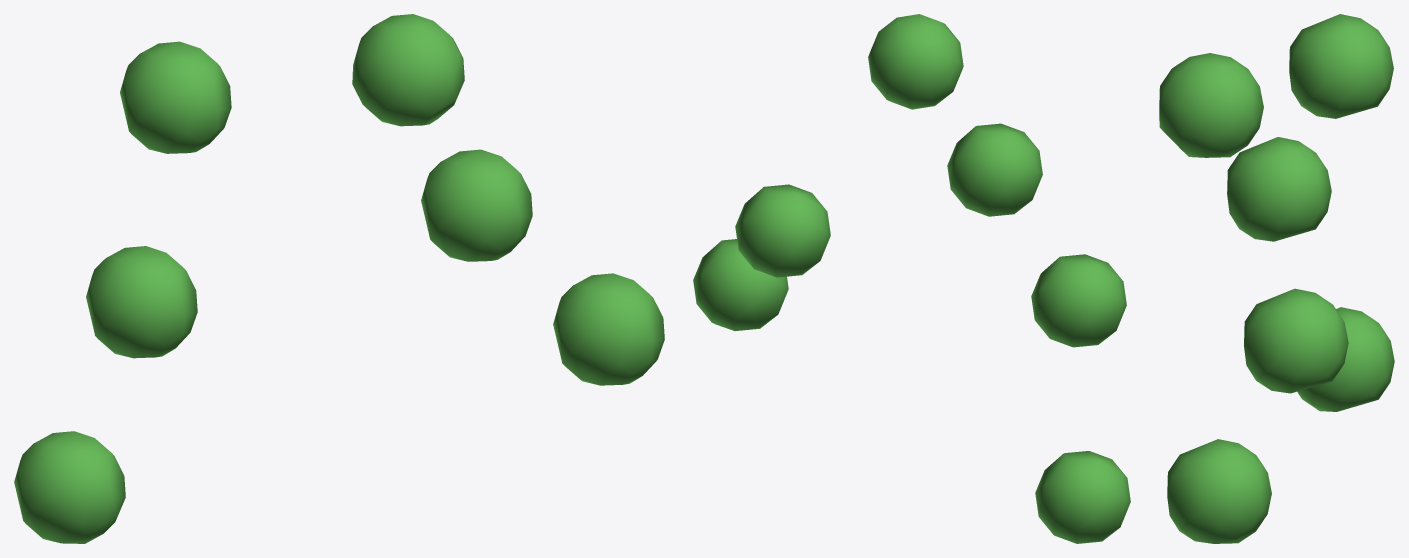
Rendered from linfatico-medial-common-iliac-nodes.glb.
3 views of the same model, side by side, from view 1: azimuth 30°, elevation 25°; view 2: azimuth 150°, elevation 25°; view 3: azimuth 270°, elevation 25° (orthographic). The views are drawn at different scales.
Parts seen in each view (by area): view 1: Medial common iliac nodes; view 2: Medial common iliac nodes; view 3: Medial common iliac nodes.
Part boxes in pixels (<box>): Medial common iliac nodes: <box>14,14,664,543</box>; Medial common iliac nodes: <box>693,14,1130,543</box>; Medial common iliac nodes: <box>1159,14,1394,543</box>.
Bounding box in the file's own units: 0.0148 × 0.0125 × 0.00566.
